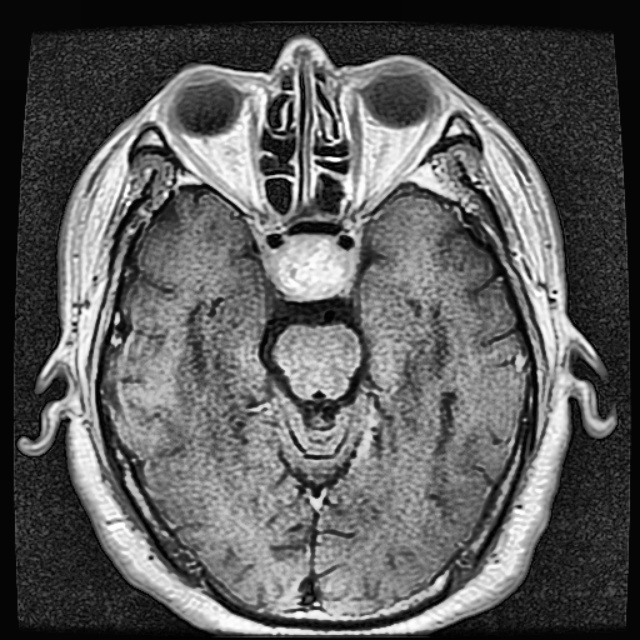Pituitary: (268, 232, 350, 298)
